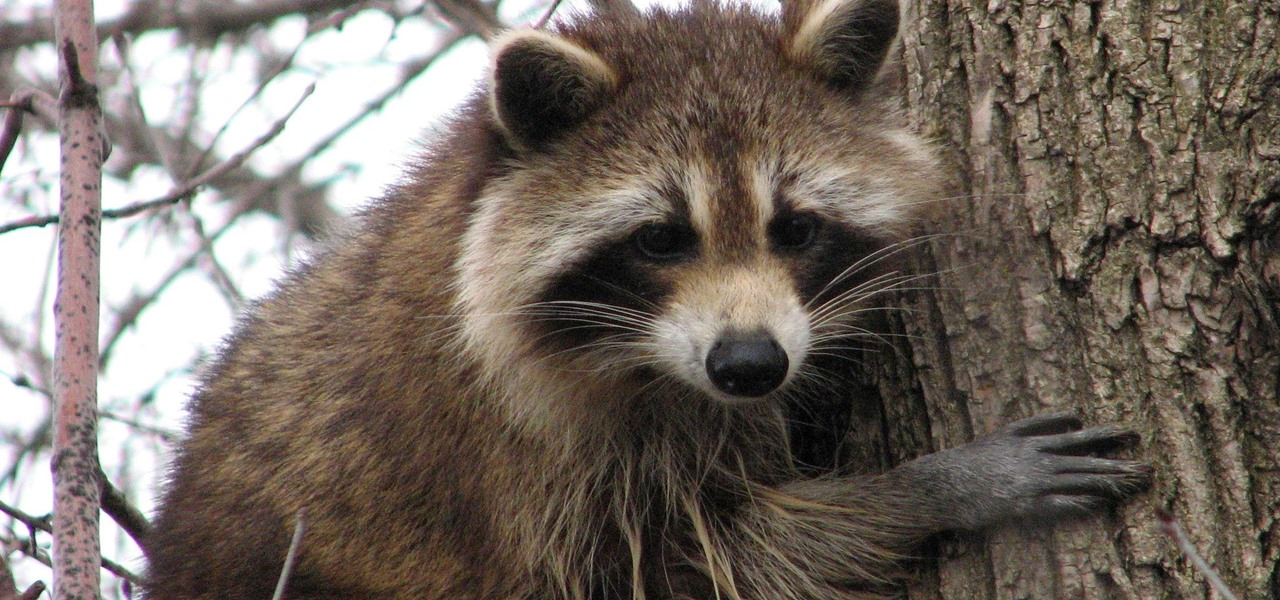raccoon: (169, 1, 1151, 600)
